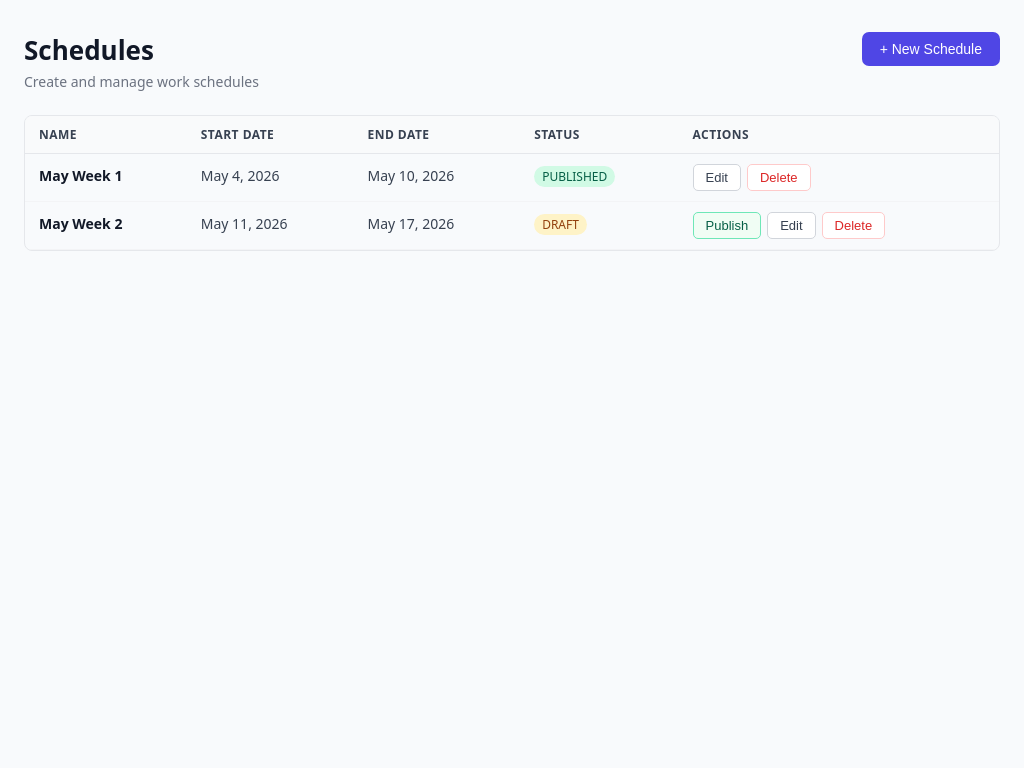
Scenario: SchedulesPage — edit schedule › pre-fills the form with existing schedule data when Edit is clicked
Check: the text "May Week 1" is shown, box [39,166,122,185]
Click the button "Edit" in the row of "May Week 1" at (717, 178), box [693,164,741,191]
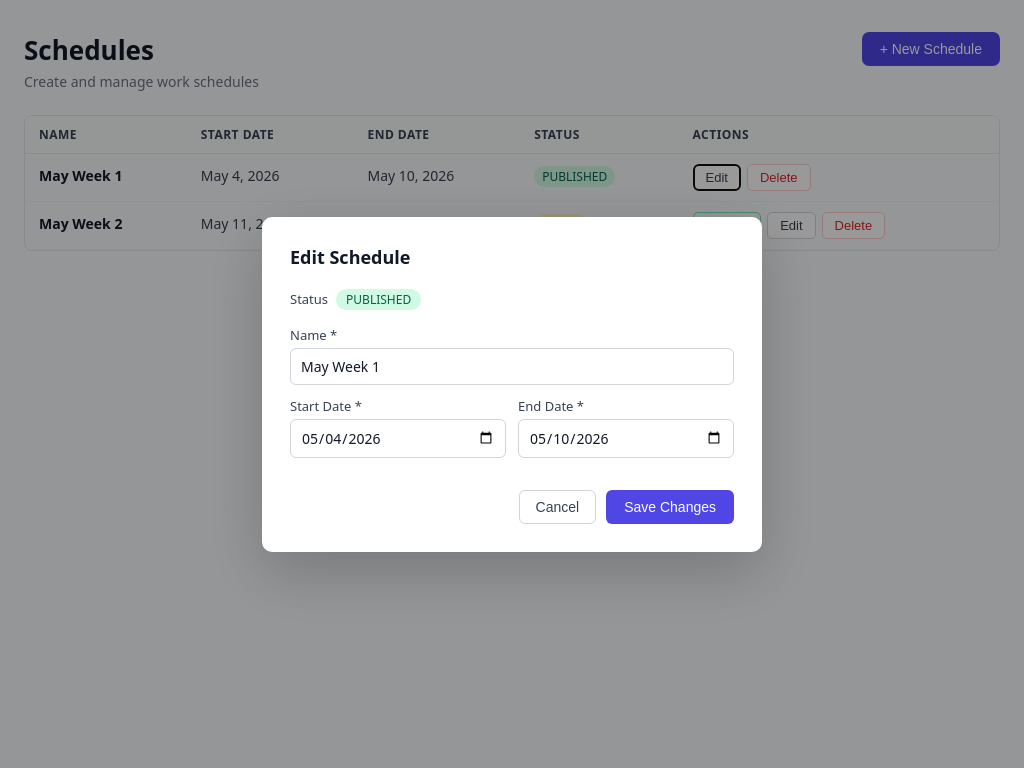
Check: the field labelled "Name *" holds "May Week 1", box [290,348,734,384]
